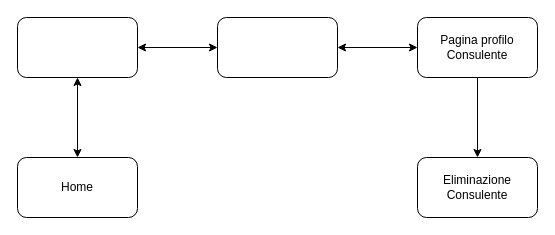
Image size: 555x235. Some labels were removed from this diagram. The centre of each missing label's shape, as x and y in pixels:
"Dashoard" belongs at (77,47).
"Pagina lista Consulenti" belongs at (277,47).
